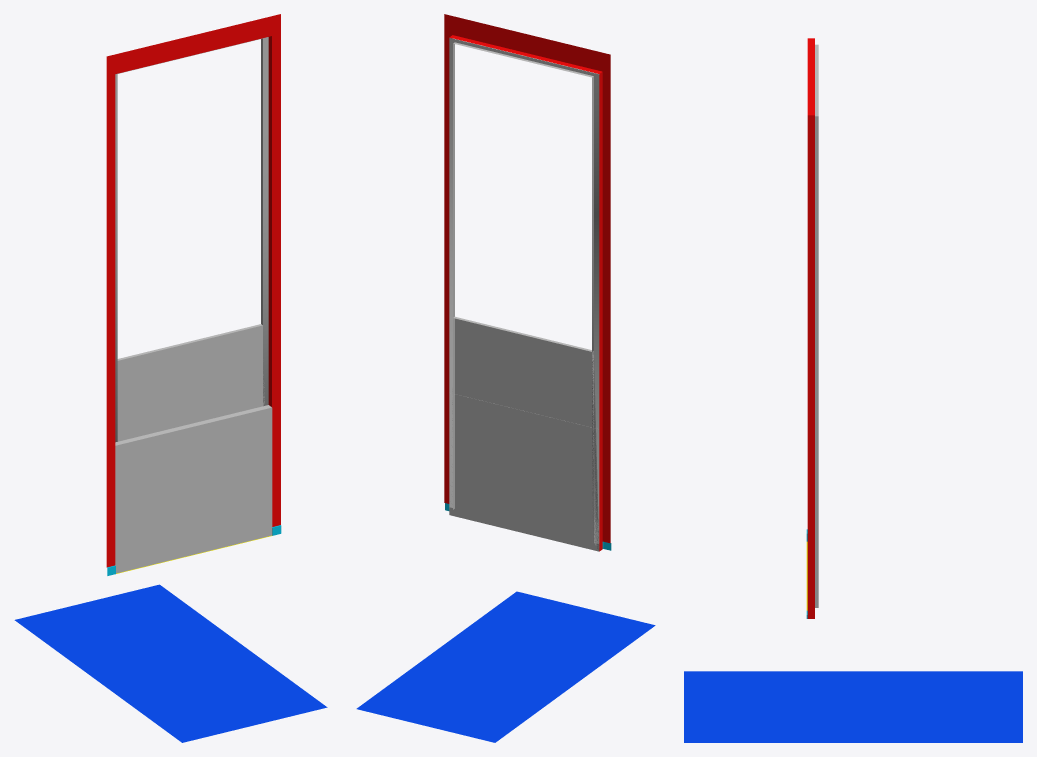
File: SM_Big_Window3.fbx
The picture shows the model from 3 angles, left to right: view 1: azimuth 30°, elevation 25°; view 2: azimuth 150°, elevation 25°; view 3: azimuth 270°, elevation 25°; orthographic projection. The views are drawn at different scales.
Visible parts, largest first — view 1: SM_Window_C, SM_Glass_C; view 2: SM_Window_C, SM_Glass_C; view 3: SM_Glass_C, SM_Window_C.
Boxes of the visible parts, <box> form: SM_Window_C: <box>106,14,281,575</box>; SM_Glass_C: <box>14,584,327,742</box>; SM_Window_C: <box>444,14,611,551</box>; SM_Glass_C: <box>356,591,655,742</box>; SM_Glass_C: <box>684,671,1022,742</box>; SM_Window_C: <box>806,38,818,618</box>.
Size of the model in its own units: 156 by 551 by 260.
